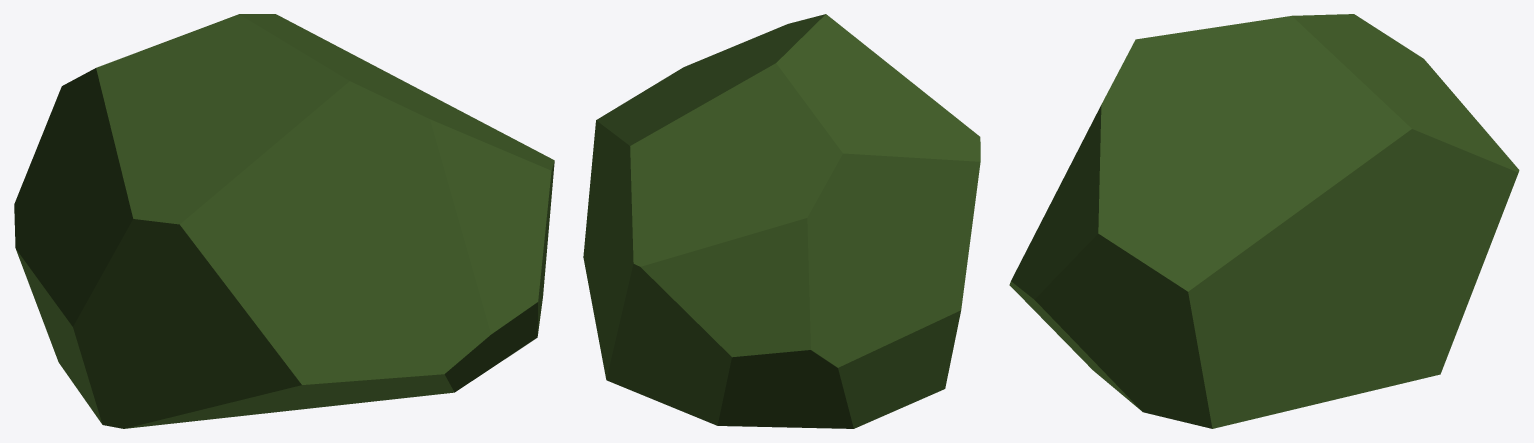
File: lp_Rock_Type2_04_mesh_001_Cube_012.obj
The picture shows the model from 3 angles, left to right: view 1: azimuth 30°, elevation 25°; view 2: azimuth 150°, elevation 25°; view 3: azimuth 270°, elevation 25°; orthographic projection. The views are drawn at different scales.
Parts seen in each view (by area): view 1: lp_Rock_Type2_04_mesh_001_Cube_012; view 2: lp_Rock_Type2_04_mesh_001_Cube_012; view 3: lp_Rock_Type2_04_mesh_001_Cube_012.
Boxes of the visible parts, box(x1,y1,x2,y2) form: lp_Rock_Type2_04_mesh_001_Cube_012: box(14, 14, 554, 428); lp_Rock_Type2_04_mesh_001_Cube_012: box(583, 14, 980, 428); lp_Rock_Type2_04_mesh_001_Cube_012: box(1009, 14, 1519, 428).
Size of the model in its own units: 1.88 by 1.4 by 1.98.
